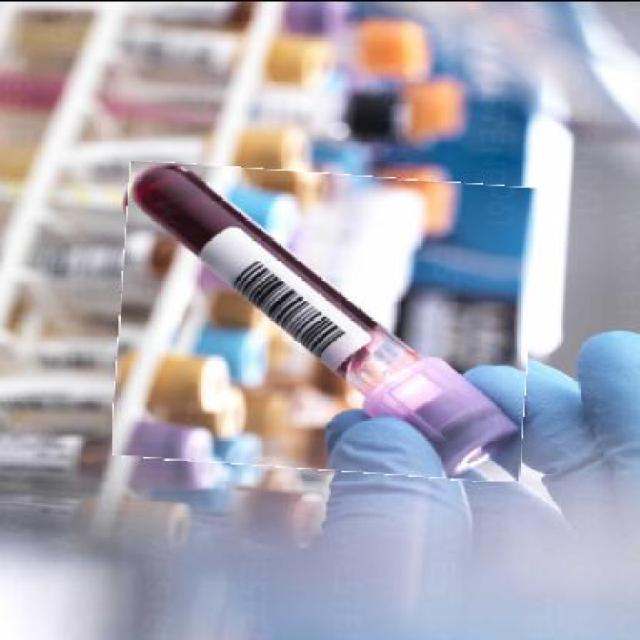Experimental-tube: (115, 166, 534, 474)
